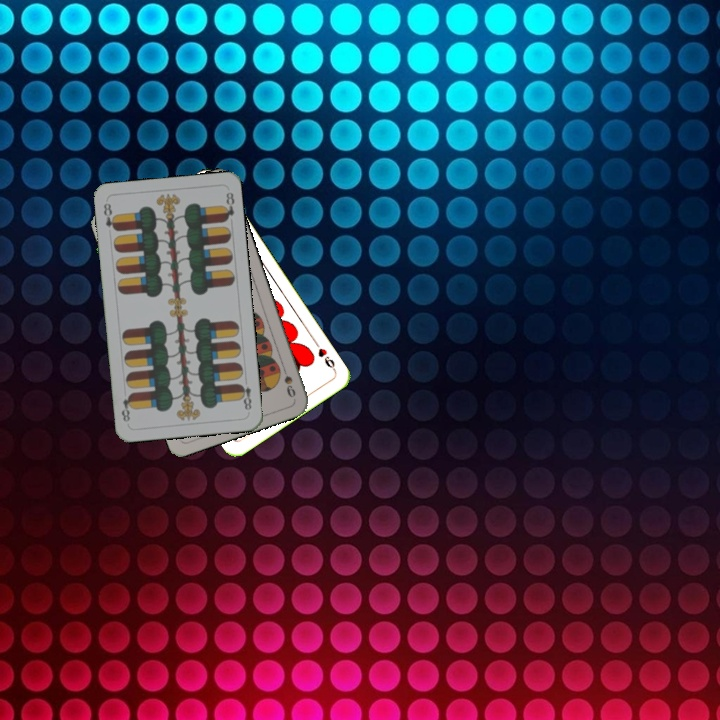E8: (235, 374, 254, 413), (100, 199, 119, 233)
H9: (311, 338, 338, 374)
S9: (278, 361, 298, 400)
